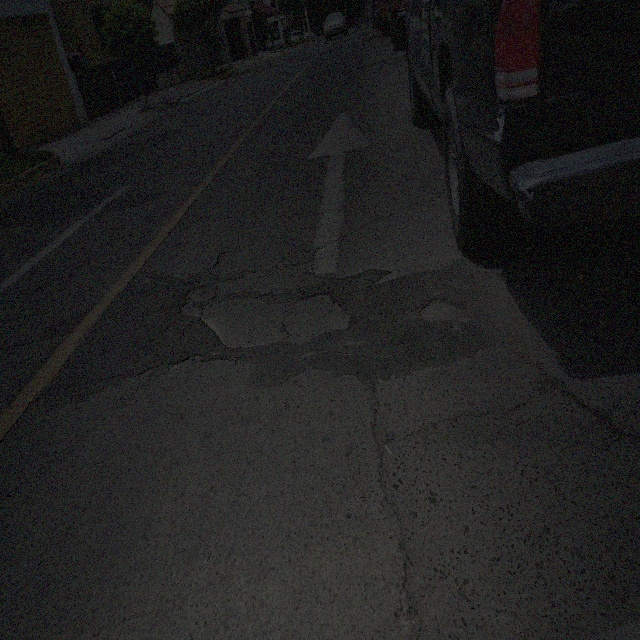pothole: (176, 286, 354, 350), (418, 295, 470, 325), (397, 563, 419, 630), (580, 398, 618, 434), (537, 364, 570, 399)
